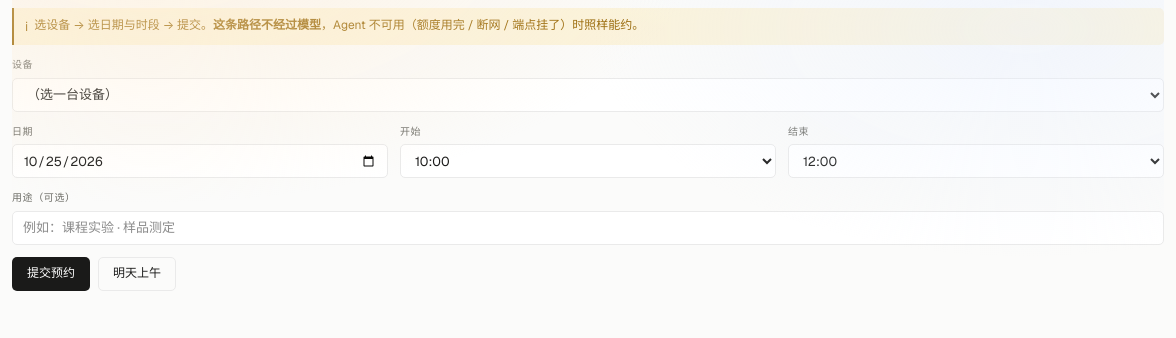
BookPane › 403 时说明这是资格问题，不是时段问题
Select "荧光光谱仪 · SPEC-F7000" in the dropdown labelled "设备": (588, 95) [12,78,1164,112]
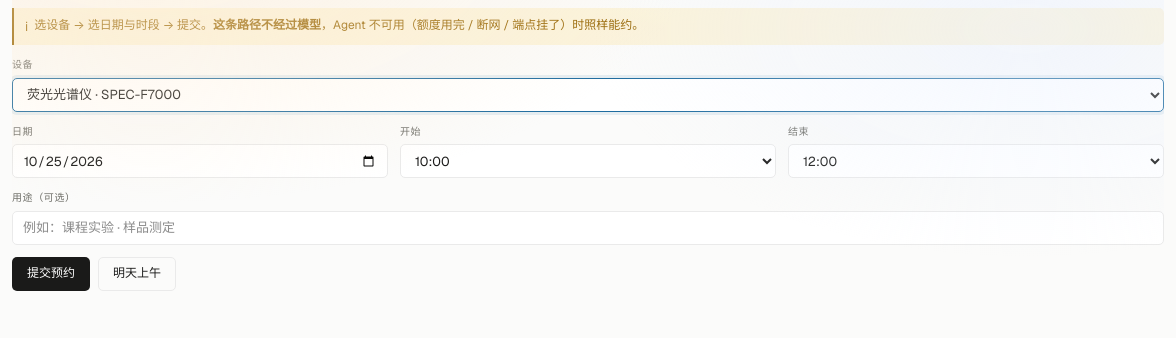
Click the button "提交预约": (51, 274) [12,257,90,291]
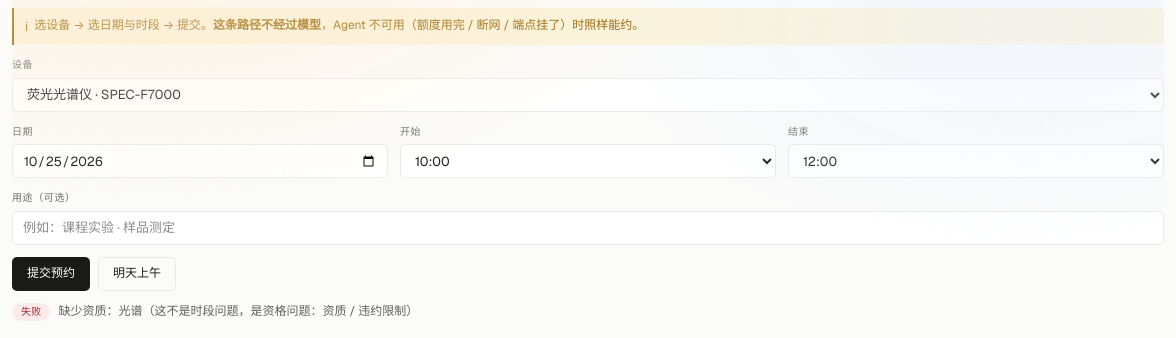
Expected: the text "缺少资质：光谱（这不是时段问题，是资格问题：资质 / 违约限制）" is shown, [58,303,418,320]
